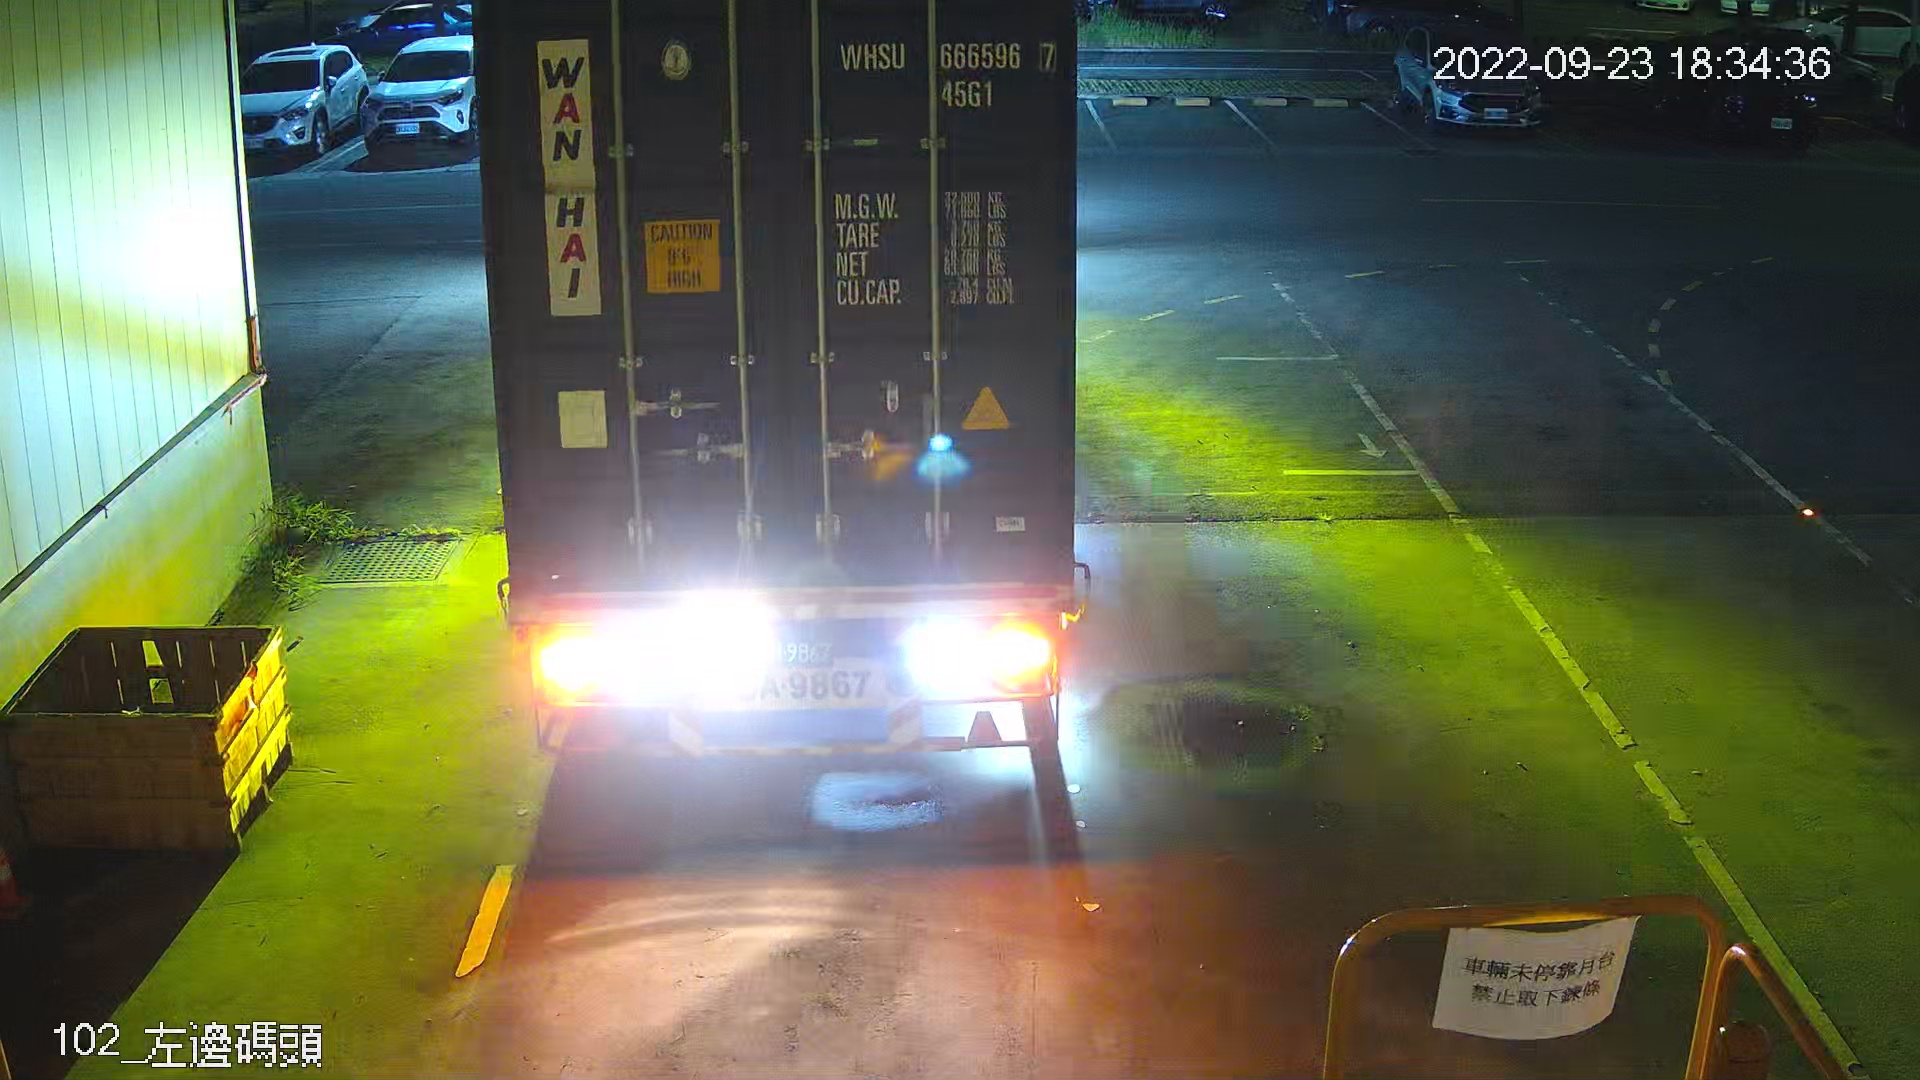container: (828, 26, 1067, 113)
